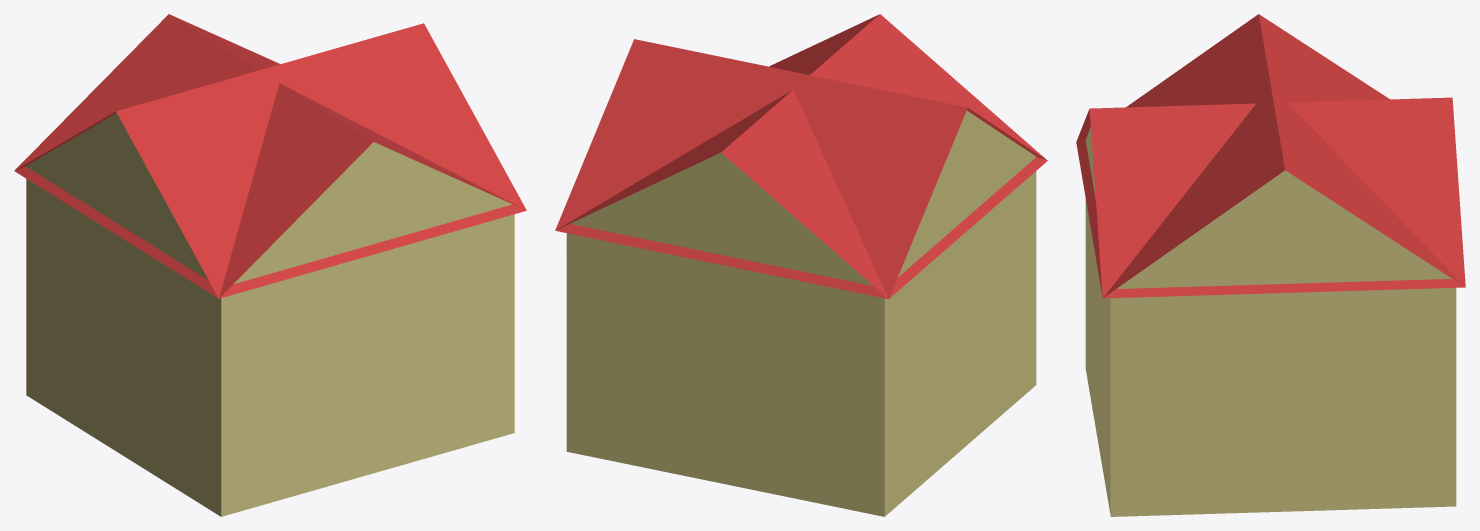
3 views of the same model, side by side, from view 1: azimuth 30°, elevation 25°; view 2: azimuth 150°, elevation 25°; view 3: azimuth 270°, elevation 25° (orthographic).
Bounding box in the file's own units: 11.31 × 11.13 × 10.89.
